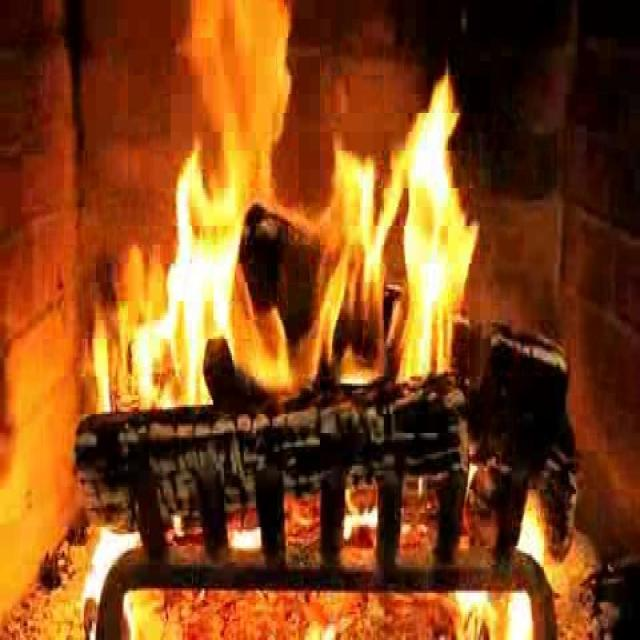Fire: (156, 28, 483, 401)
